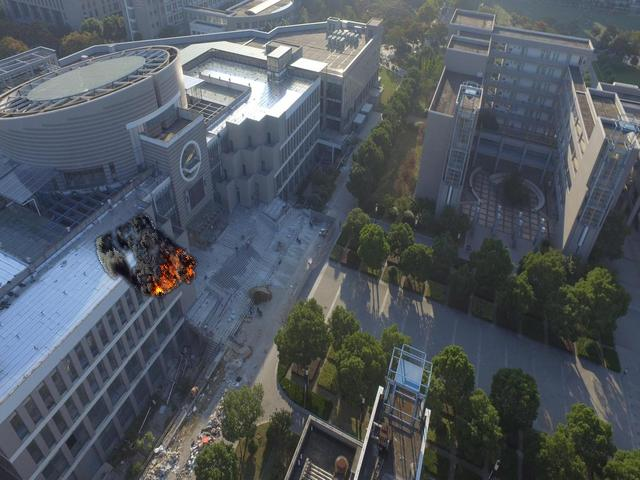fire: (93, 212, 199, 299)
